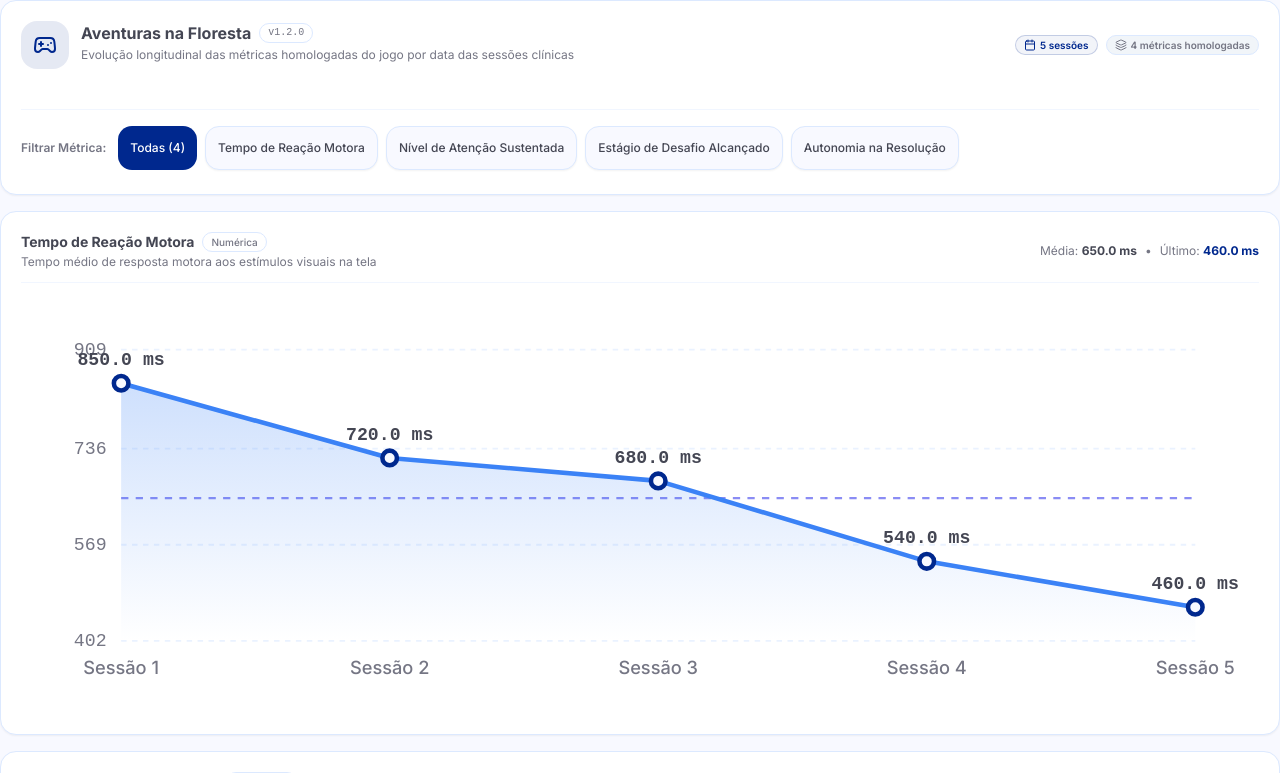
Sprint 11 — Componentes de Engajamento Global e Gráficos de Métricas (RF15, RN01, RN02, RNF04, RNF07) › GraficoEvolucaoJogo — Container Orquestrador por Jogo › deve permitir filtrar e exibir apenas uma métrica ao clicar na tab correspondente
The image size is (1280, 773).
Click the button with test id "tab-metrica-tempo_reacao_ms": (292, 148) [205,126,378,170]
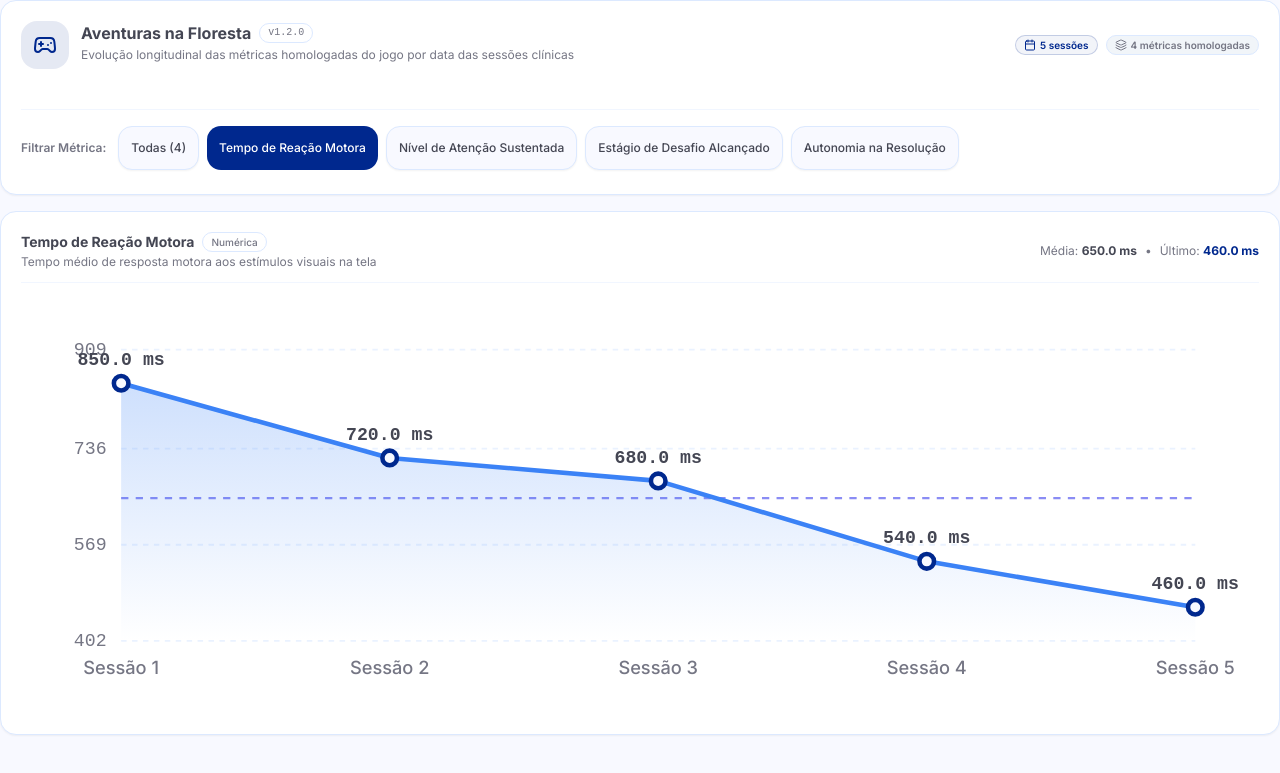
Voltar para todas
Click the button with test id "tab-metrica-todas": (159, 148) [118,126,199,170]
(page scrolled)
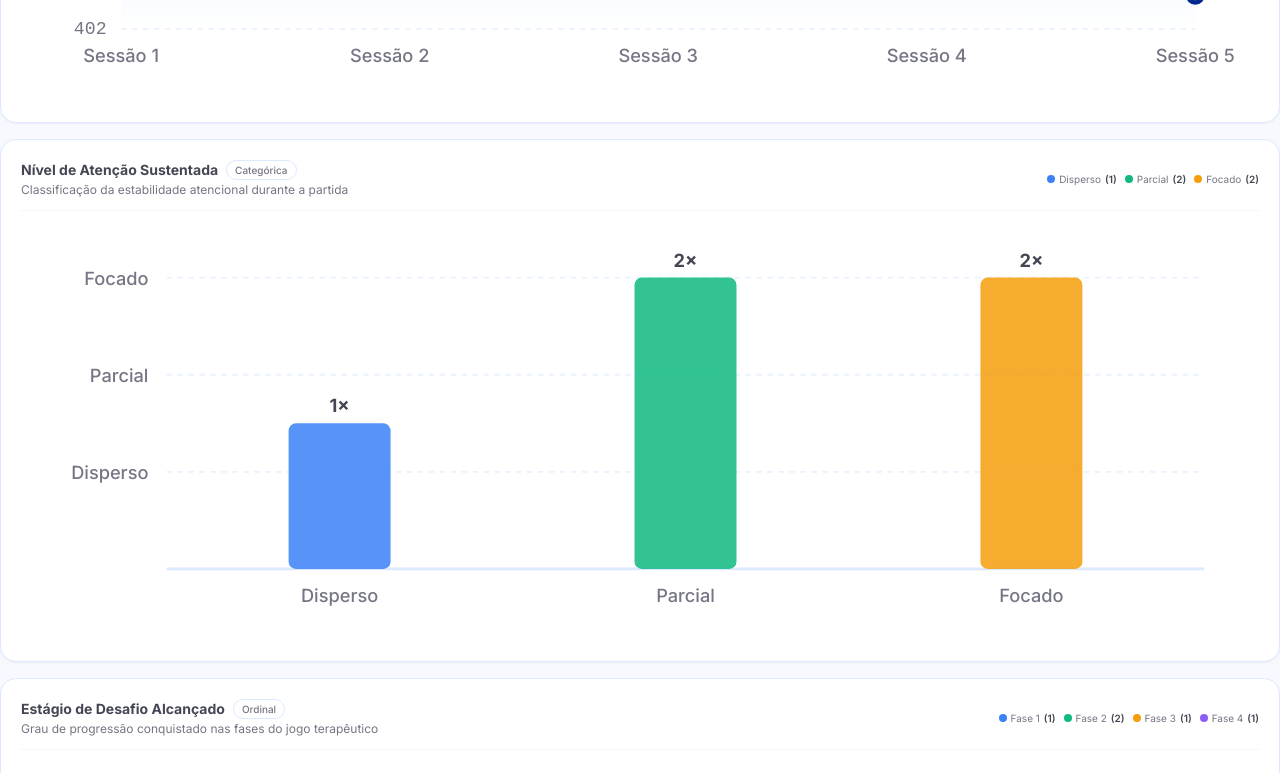
Expected: the element with test id "grafico-barras-nivel_atencao" is shown
